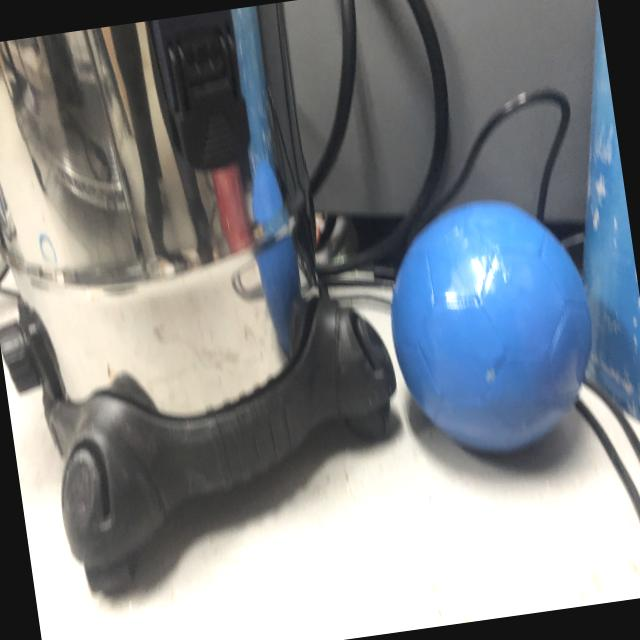blue_ball: (376, 191, 603, 464)
